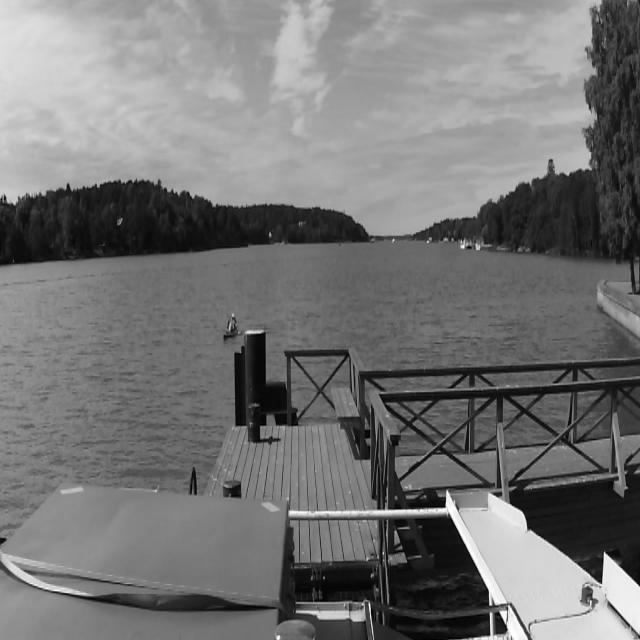ship: (223, 313, 238, 341), (392, 238, 395, 244)
